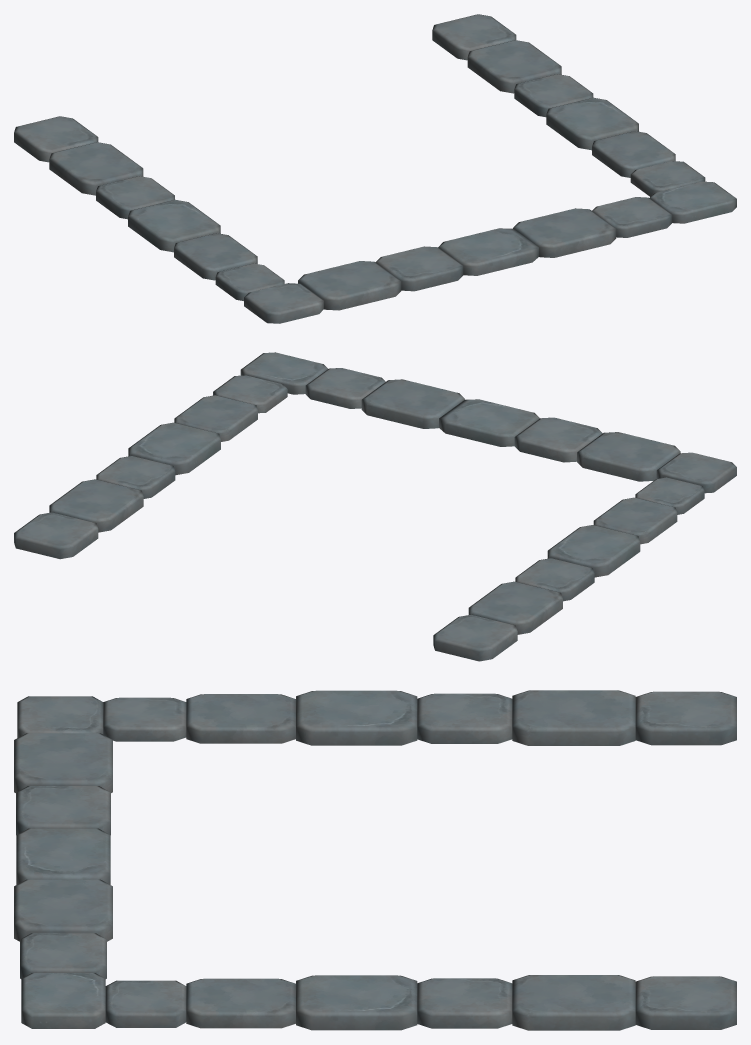
The model's file is bricks_stone_turn.fbx.
3 views of the same model, one above another, from view 1: azimuth 30°, elevation 25°; view 2: azimuth 150°, elevation 25°; view 3: azimuth 270°, elevation 25° (orthographic). The views are drawn at different scales.
Parts seen in each view (by area): view 1: bricks_stone_turn; view 2: bricks_stone_turn; view 3: bricks_stone_turn.
Part boxes in pixels (<box>): bricks_stone_turn: <box>14,14,736,323</box>; bricks_stone_turn: <box>14,352,736,661</box>; bricks_stone_turn: <box>14,690,736,1030</box>.
Bounding box in the file's own units: 344 × 8.15 × 322.
